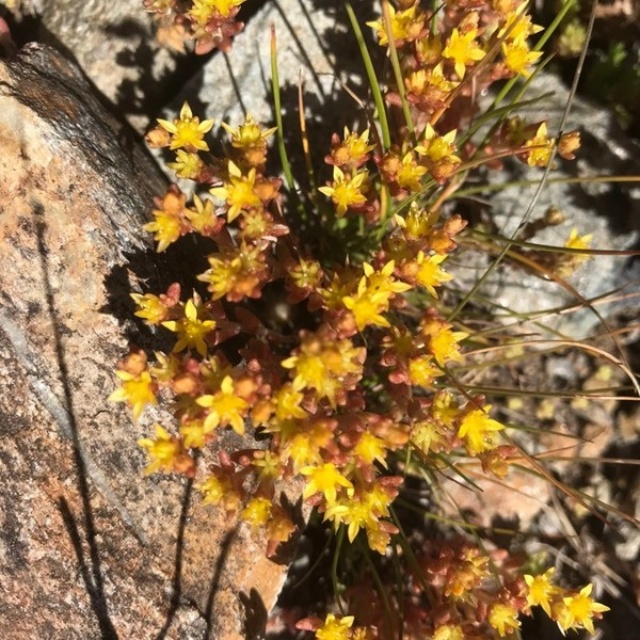obstacle: (122, 102, 455, 560)
